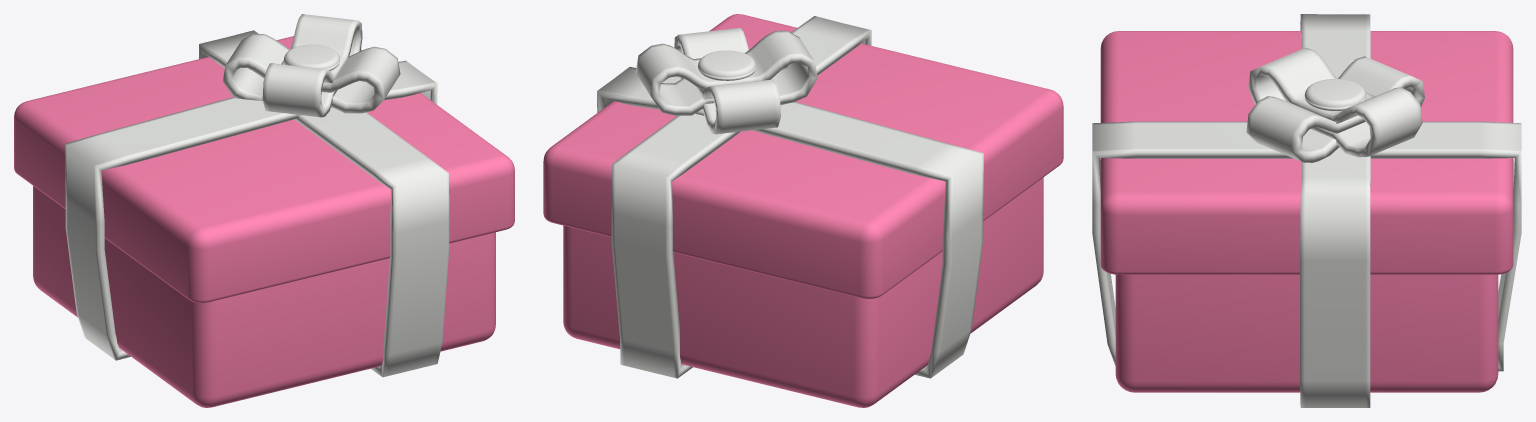
File: present5.glb
3 views of the same model, side by side, from view 1: azimuth 30°, elevation 25°; view 2: azimuth 150°, elevation 25°; view 3: azimuth 270°, elevation 25° (orthographic). The views are drawn at different scales.
Parts seen in each view (by area): view 1: Box.001, Box, Ribbon.002, Ribbon.001, Ribbon.003, Ribbon, Ribbon.004; view 2: Box.001, Box, Ribbon.002, Ribbon.001, Ribbon, Ribbon.003, Ribbon.004; view 3: Box.001, Box, Ribbon.001, Ribbon.002, Ribbon, Ribbon.003, Ribbon.004.
Boxes of the visible parts, x1,y1,x2,y2 form: Box.001: (14,36,514,302); Box: (33,186,495,407); Ribbon.002: (199,30,449,377); Ribbon.001: (64,60,437,360); Ribbon.003: (223,33,400,113); Ribbon: (262,14,362,117); Ribbon.004: (284,44,339,70); Box.001: (543,14,1063,298); Box: (563,177,1043,407); Ribbon.002: (611,16,871,378); Ribbon.001: (597,67,983,378); Ribbon: (635,30,817,115); Ribbon.003: (674,28,780,134); Ribbon.004: (698,50,756,80); Box.001: (1100,31,1513,274); Box: (1115,274,1498,392); Ribbon.001: (1300,14,1370,407); Ribbon.002: (1092,121,1521,371); Ribbon: (1248,47,1422,157); Ribbon.003: (1246,56,1424,162); Ribbon.004: (1304,79,1366,110).
Size of the model in its own units: 2.08 by 1.48 by 2.06.
